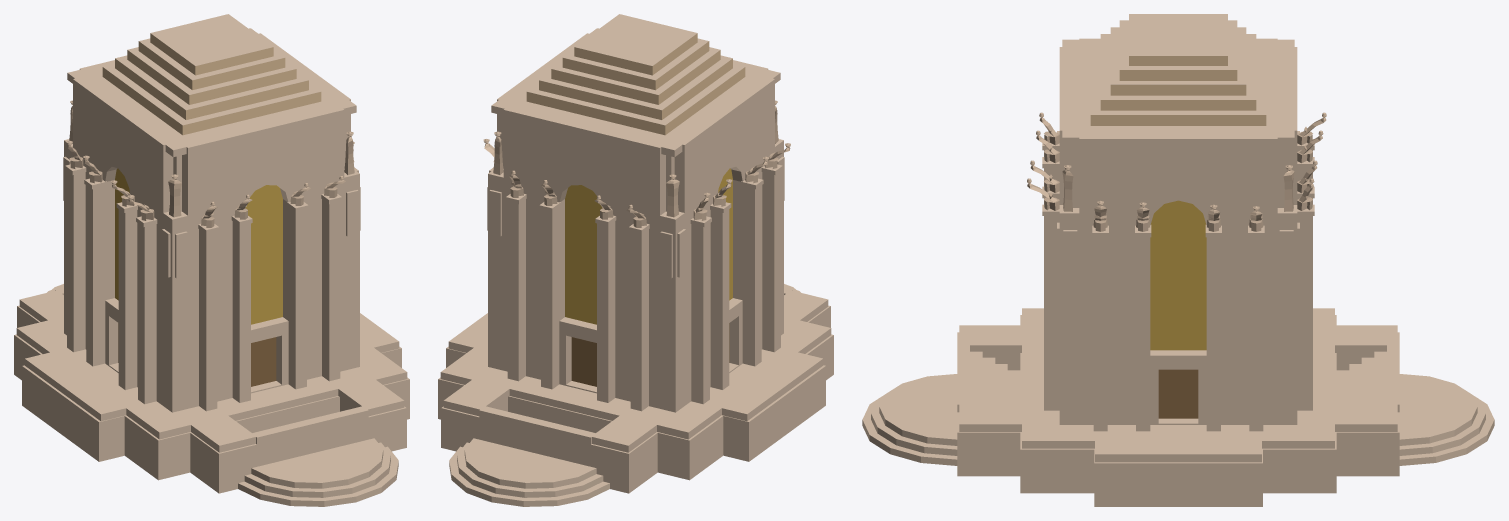
The model's file is sydney-anzac-memorial.glb.
The picture shows the model from 3 angles, left to right: view 1: azimuth 30°, elevation 25°; view 2: azimuth 150°, elevation 25°; view 3: azimuth 270°, elevation 25°; orthographic projection. The views are drawn at different scales.
Parts seen in each view (by area): view 1: Anzac Memorial; view 2: Anzac Memorial; view 3: Anzac Memorial.
Part boxes in pixels (x1,y1,x2,y2): Anzac Memorial: (14, 14, 409, 506); Anzac Memorial: (438, 14, 833, 506); Anzac Memorial: (862, 14, 1494, 506).
Size of the model in its own units: 27.1 by 30.5 by 44.68.
